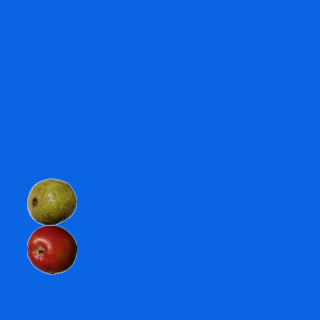Apple Braeburn: (26, 224, 76, 274)
Guava: (26, 176, 76, 226)
